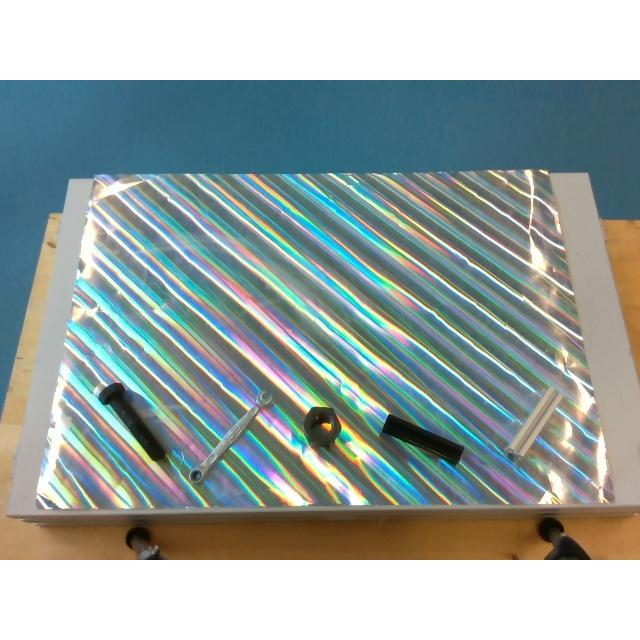F20_20_B: (381, 414, 464, 466)
F20_20_G: (506, 387, 562, 457)
M20_100: (98, 382, 166, 460)
M30: (304, 406, 341, 448)
Wrench: (189, 391, 271, 483)
